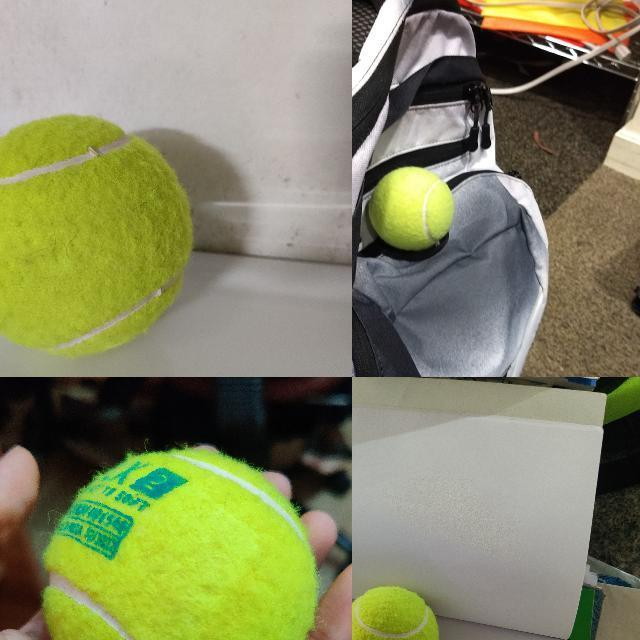tennis-ball: (43, 450, 317, 639), (0, 112, 197, 357), (368, 166, 454, 251), (352, 585, 440, 639)
